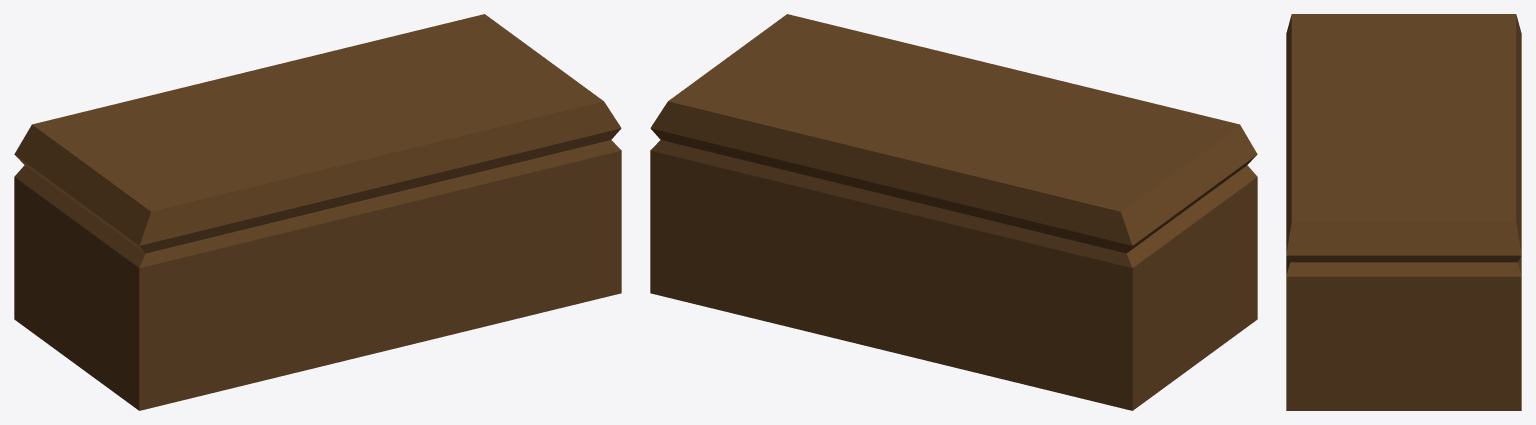
Rendered from Caixa3.fbx.
3 renders of one model, left to right at view 1: azimuth 30°, elevation 25°; view 2: azimuth 150°, elevation 25°; view 3: azimuth 270°, elevation 25°, orthographic. The views are drawn at different scales.
Parts seen in each view (by area): view 1: Caixa3; view 2: Caixa3; view 3: Caixa3.
Part boxes in pixels (<box>): Caixa3: <box>14,14,621,410</box>; Caixa3: <box>650,14,1257,410</box>; Caixa3: <box>1286,14,1521,410</box>.
Size of the model in its own units: 112 by 42.88 by 50.23.
